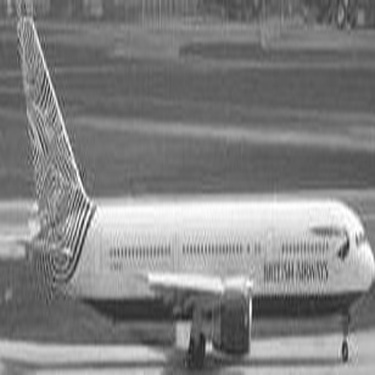airplane: (1, 2, 371, 374)
